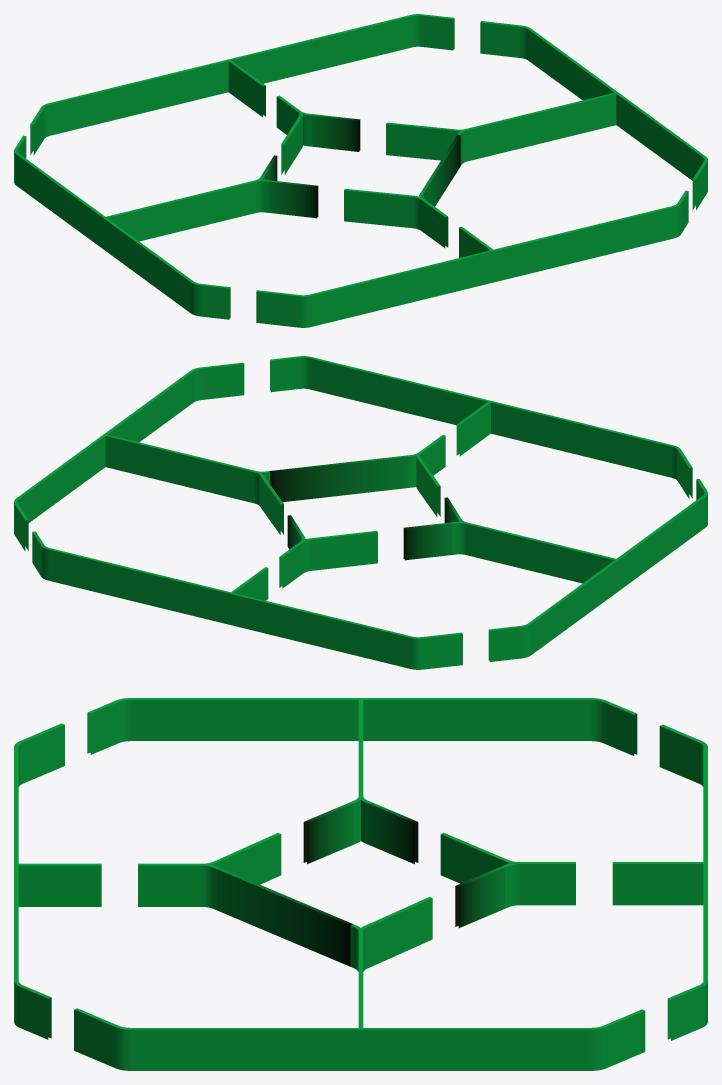
Rendered from Sector_medium.fbx.
3 renders of one model, top to bottom at view 1: azimuth 30°, elevation 25°; view 2: azimuth 150°, elevation 25°; view 3: azimuth 270°, elevation 25°, orthographic. The views are drawn at different scales.
Visible parts, largest first — view 1: Wall_Diag_uni_10u8 (×7), Wall_Straight_uni_10u (×4), Wall_Straight_uni_10u1 (×4), Wall_Straight_uni_10u4 (×4), Wall_Straight_uni_10u3 (×4), Wall_Straight_uni_10u2 (×4), Wall_Diag_uni_10u7 (×4), Wall_Straight_uni_10u14, Wall_Straight_uni_10u11, Wall_Straight_uni_10u5, Wall_Straight_uni_10u6, Wall_Straight_uni_10u7 (+5 smaller); view 2: Wall_Diag_uni_10u8 (×7), Wall_Straight_uni_10u4 (×4), Wall_Straight_uni_10u1 (×4), Wall_Straight_uni_10u (×4), Wall_Straight_uni_10u3 (×4), Wall_Straight_uni_10u2 (×4), Wall_Straight_uni_10u14, Wall_Diag_uni_10u3, Wall_Straight_uni_10u11, Wall_Diag_uni_10u7 (×3), Wall_Straight_uni_10u5, Wall_Straight_uni_10u6 (+7 smaller); view 3: Wall_Diag_uni_10u8 (×7), Wall_Diag_uni_10u7 (×7), Wall_Straight_uni_10u (×2), Wall_Straight_uni_10u1 (×2), Wall_Straight_uni_10u3 (×2), Wall_Straight_uni_10u4 (×2), Wall_Straight_uni_10u2 (×2), Wall_Diag_uni_10u3, Wall_Straight_uni_10u7, Wall_Straight_uni_10u16, Wall_Straight_uni_10u15, Wall_Straight_uni_10u8 (+4 smaller).
Part boxes in pixels (left/top/right/bottom): Wall_Diag_uni_10u8 (×7): left=30, top=21, right=706, bottom=327; Wall_Straight_uni_10u (×4): left=52, top=30, right=670, bottom=311; Wall_Straight_uni_10u1 (×4): left=112, top=55, right=610, bottom=286; Wall_Straight_uni_10u4 (×4): left=16, top=30, right=704, bottom=311; Wall_Straight_uni_10u3 (×4): left=51, top=44, right=670, bottom=297; Wall_Straight_uni_10u2 (×4): left=85, top=59, right=635, bottom=282; Wall_Diag_uni_10u7 (×4): left=201, top=14, right=454, bottom=319; Wall_Straight_uni_10u14: left=467, top=92, right=616, bottom=160; Wall_Straight_uni_10u11: left=106, top=181, right=255, bottom=241; Wall_Straight_uni_10u5: left=350, top=15, right=411, bottom=61; Wall_Straight_uni_10u6: left=311, top=280, right=371, bottom=326; Wall_Straight_uni_10u7: left=228, top=60, right=265, bottom=117; Wall_Diag_uni_10u8 (×7): left=14, top=362, right=692, bottom=669; Wall_Straight_uni_10u4 (×4): left=109, top=371, right=612, bottom=654; Wall_Straight_uni_10u1 (×4): left=53, top=372, right=669, bottom=653; Wall_Straight_uni_10u (×4): left=18, top=358, right=703, bottom=667; Wall_Straight_uni_10u3 (×4): left=121, top=396, right=600, bottom=629; Wall_Straight_uni_10u2 (×4): left=87, top=387, right=634, bottom=638; Wall_Straight_uni_10u14: left=105, top=434, right=254, bottom=502; Wall_Diag_uni_10u3: left=269, top=455, right=408, bottom=502; Wall_Straight_uni_10u11: left=466, top=523, right=615, bottom=583; Wall_Diag_uni_10u7 (×3): left=270, top=356, right=517, bottom=661; Wall_Straight_uni_10u5: left=49, top=548, right=109, bottom=595; Wall_Straight_uni_10u6: left=611, top=430, right=672, bottom=477; Wall_Diag_uni_10u8 (×7): left=24, top=723, right=700, bottom=1067; Wall_Diag_uni_10u7 (×7): left=21, top=701, right=698, bottom=1040; Wall_Straight_uni_10u (×2): left=135, top=698, right=586, bottom=1070; Wall_Straight_uni_10u1 (×2): left=226, top=698, right=495, bottom=1070; Wall_Straight_uni_10u3 (×2): left=222, top=698, right=499, bottom=1070; Wall_Straight_uni_10u4 (×2): left=131, top=698, right=590, bottom=1070; Wall_Straight_uni_10u2 (×2): left=313, top=698, right=408, bottom=1070; Wall_Diag_uni_10u3: left=217, top=868, right=352, bottom=966; Wall_Straight_uni_10u7: left=612, top=862, right=703, bottom=905; Wall_Straight_uni_10u16: left=18, top=863, right=101, bottom=906; Wall_Straight_uni_10u15: left=138, top=863, right=200, bottom=906; Wall_Straight_uni_10u8: left=521, top=862, right=575, bottom=905.
Size of the model in its own units: 86.33 by 5 by 76.33.
